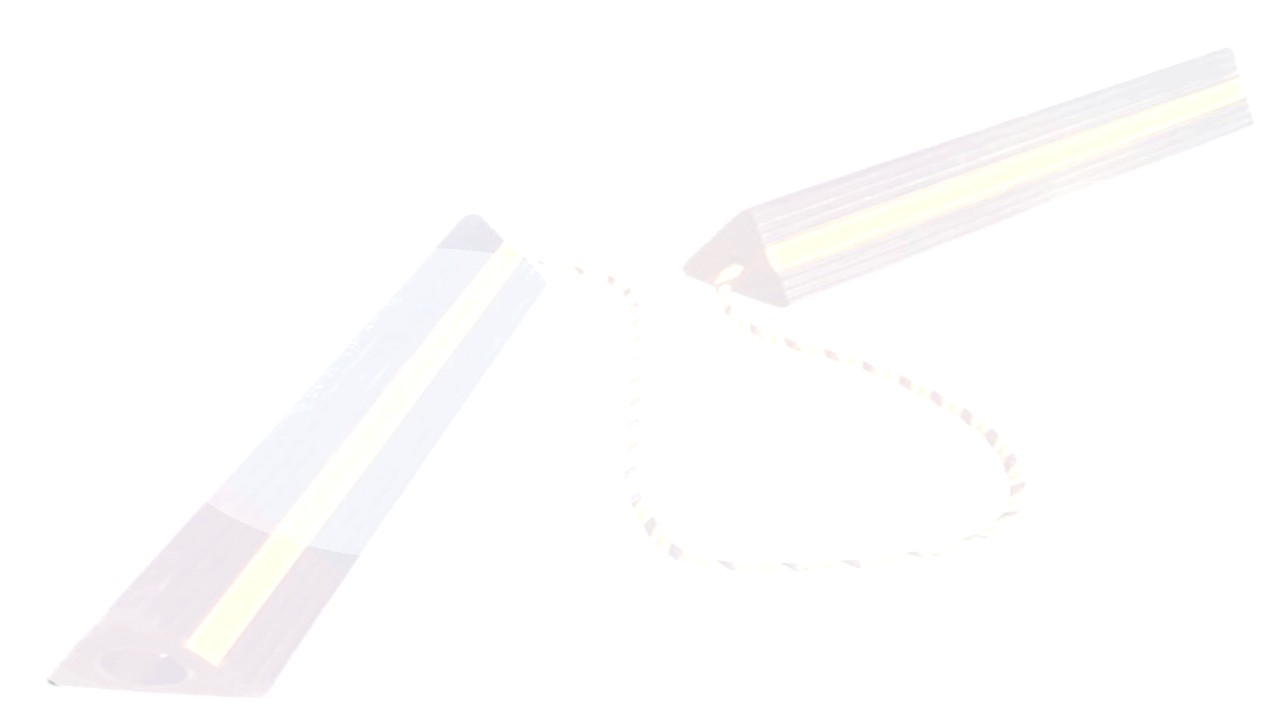chock: (32, 196, 552, 720), (679, 38, 1262, 319)
